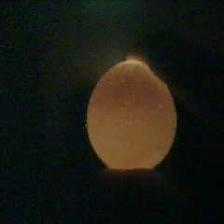infertile: (82, 55, 180, 173)
